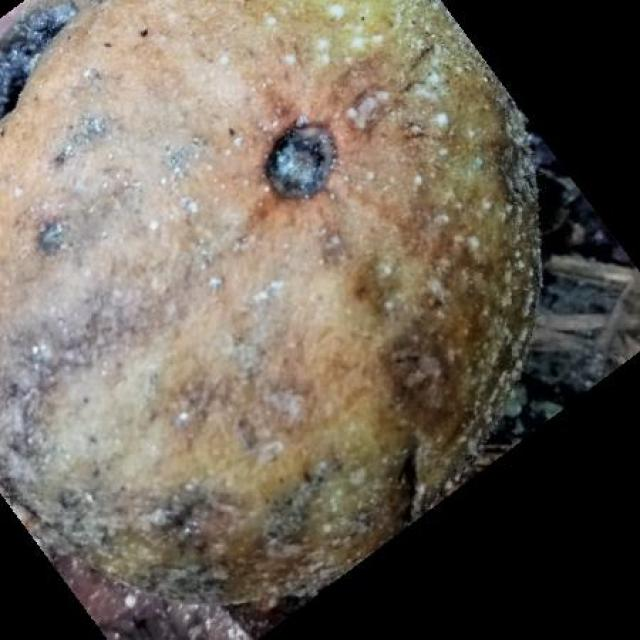Phytopthora: (0, 0, 538, 633)
